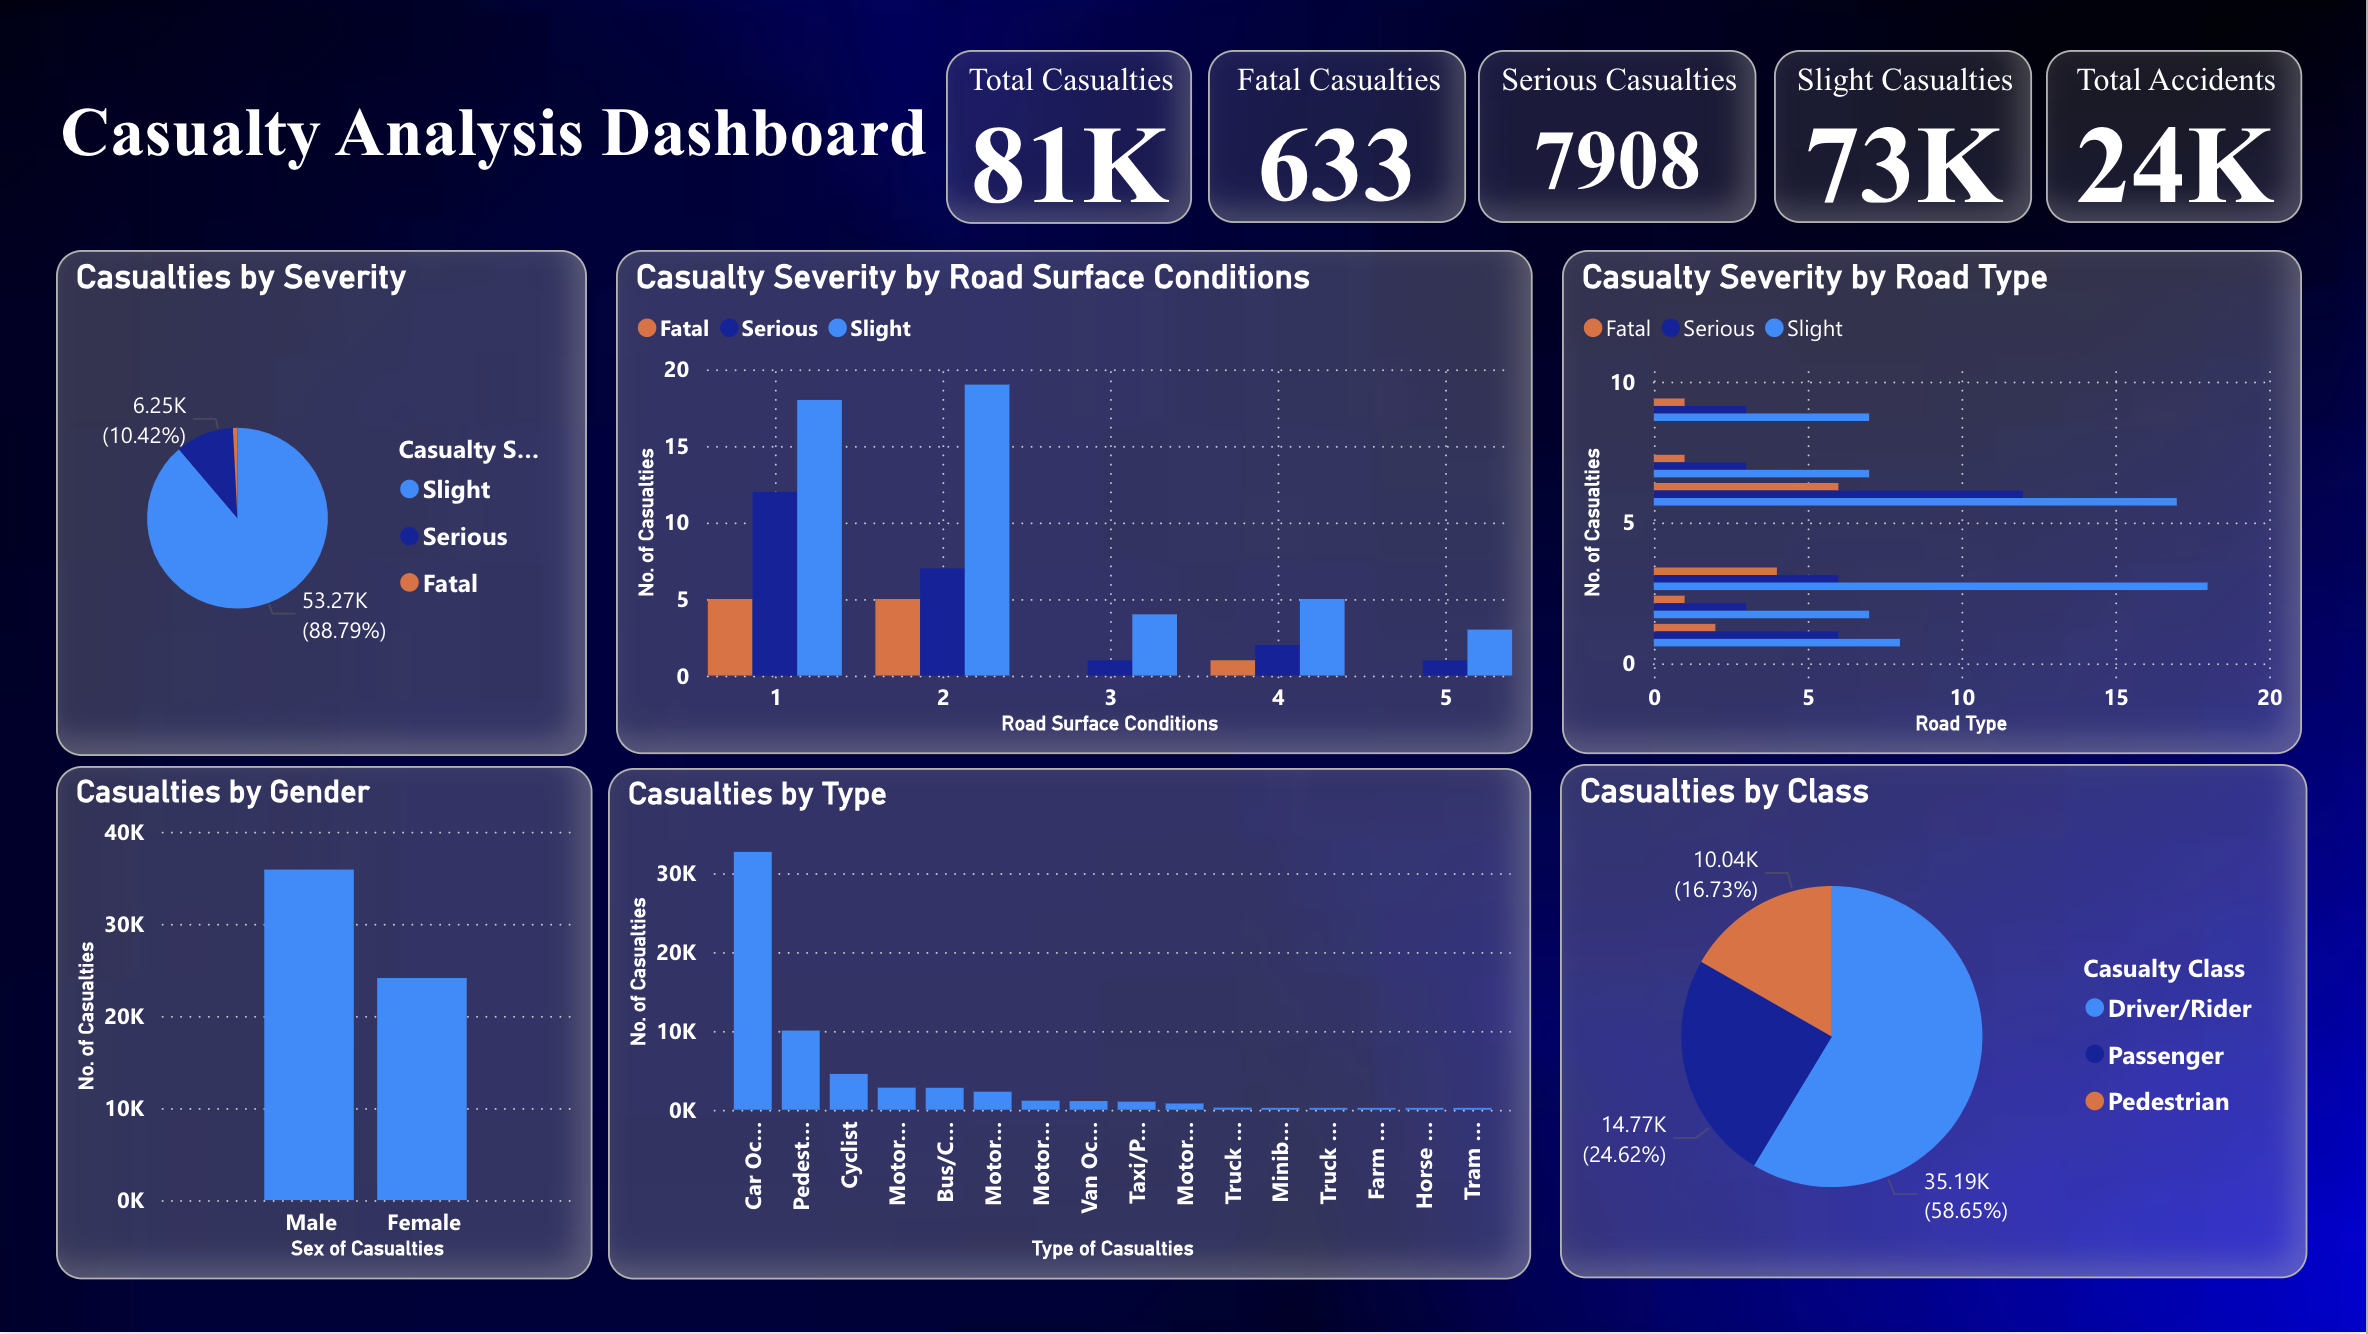

Layout of this report page (visuals, bound fields, positions):
{"tool":"powerbi","page":{"name":"Casualties","canvas":[1280,720],"ordinal":1},"visuals":[{"type":"clusteredColumnChart","title":"Casualty Severity by Road Surface Conditions  ","fields":{"Category":["Accidents_Cleaned.Road_Surface_Conditions"],"Series":["Cleaned_Casualties.Casualty_Severity"],"Y":["Count(Cleaned_Casualties.Casualty_Reference)"]},"box":[333.7,127.5,495.4,271.7],"z":0},{"type":"clusteredBarChart","title":"Casualty Severity by Road Type","fields":{"Category":["Accidents_Cleaned.Road_Type"],"Series":["Cleaned_Casualties.Casualty_Severity"],"Y":["Count(Cleaned_Casualties.Casualty_Reference)"]},"box":[847.5,127.5,400.2,271.7],"z":1000},{"type":"card","title":"Total Casualties","fields":{"Values":["Sum(Cleaned_Casualties.Casualty_Reference)"]},"box":[503.7,16.6,135.9,99.8],"z":2000},{"type":"card","title":"Fatal Casualties","fields":{"Values":["Sum(Cleaned_Casualties.Casualty_Reference)"]},"box":[648.8,16.6,139.6,99.8],"z":3000},{"type":"card","title":"Total Accidents","fields":{"Values":["CountNonNull(Accidents_Cleaned.Accident_Index)"]},"box":[1115.6,16.6,132.2,99.8],"z":4000},{"type":"card","title":"Serious Casualties","fields":{"Values":["Sum(Cleaned_Casualties.Casualty_Reference)"]},"box":[800.4,16.6,149.7,99.8],"z":5000},{"type":"card","title":"Slight Casualties","fields":{"Values":["Sum(Cleaned_Casualties.Casualty_Reference)"]},"box":[963.1,16.6,139.6,99.8],"z":6000},{"type":"pieChart","title":"Casualties by Severity ","fields":{"Category":["Cleaned_Casualties.Casualty_Severity"],"Y":["CountNonNull(Cleaned_Casualties.Casualty_Reference)"]},"box":[32.3,127.5,287.4,271.7],"z":7000},{"type":"columnChart","title":"Casualties by Gender","fields":{"Category":["Cleaned_Casualties.Sex_of_Casualty"],"Y":["CountNonNull(Cleaned_Casualties.Casualty_Reference)"]},"box":[32.3,415,290.2,276.4],"z":8000},{"type":"columnChart","title":"Casualties by Type","fields":{"Y":["CountNonNull(Cleaned_Casualties.Casualty_Reference)"],"Category":["Cleaned_Casualties.Casualty_Type"]},"box":[333.7,415,499.1,276.4],"z":9000},{"type":"pieChart","title":"Casualties by Class ","fields":{"Y":["CountNonNull(Cleaned_Casualties.Casualty_Reference)"],"Category":["Cleaned_Casualties.Casualty_Class"]},"box":[843.9,415,403.9,276.4],"z":10000},{"type":"textbox","box":[17.6,47.1,477.8,61],"z":11000}]}

Visuals, with their boxes in screenshot pixels (x1, y1, x2, y2), scaled from the page's 1280x720 canvas onto the 2368x1334 screenshot:
"Casualty Severity by Road Surface Conditions  " clusteredColumnChart: box(617, 236, 1534, 740)
"Casualty Severity by Road Type" clusteredBarChart: box(1568, 236, 2308, 740)
"Total Casualties" card: box(932, 31, 1183, 216)
"Fatal Casualties" card: box(1200, 31, 1459, 216)
"Total Accidents" card: box(2064, 31, 2308, 216)
"Serious Casualties" card: box(1481, 31, 1758, 216)
"Slight Casualties" card: box(1782, 31, 2040, 216)
"Casualties by Severity " pieChart: box(60, 236, 591, 740)
"Casualties by Gender" columnChart: box(60, 769, 597, 1281)
"Casualties by Type" columnChart: box(617, 769, 1541, 1281)
"Casualties by Class " pieChart: box(1561, 769, 2308, 1281)
textbox: box(33, 87, 916, 200)
